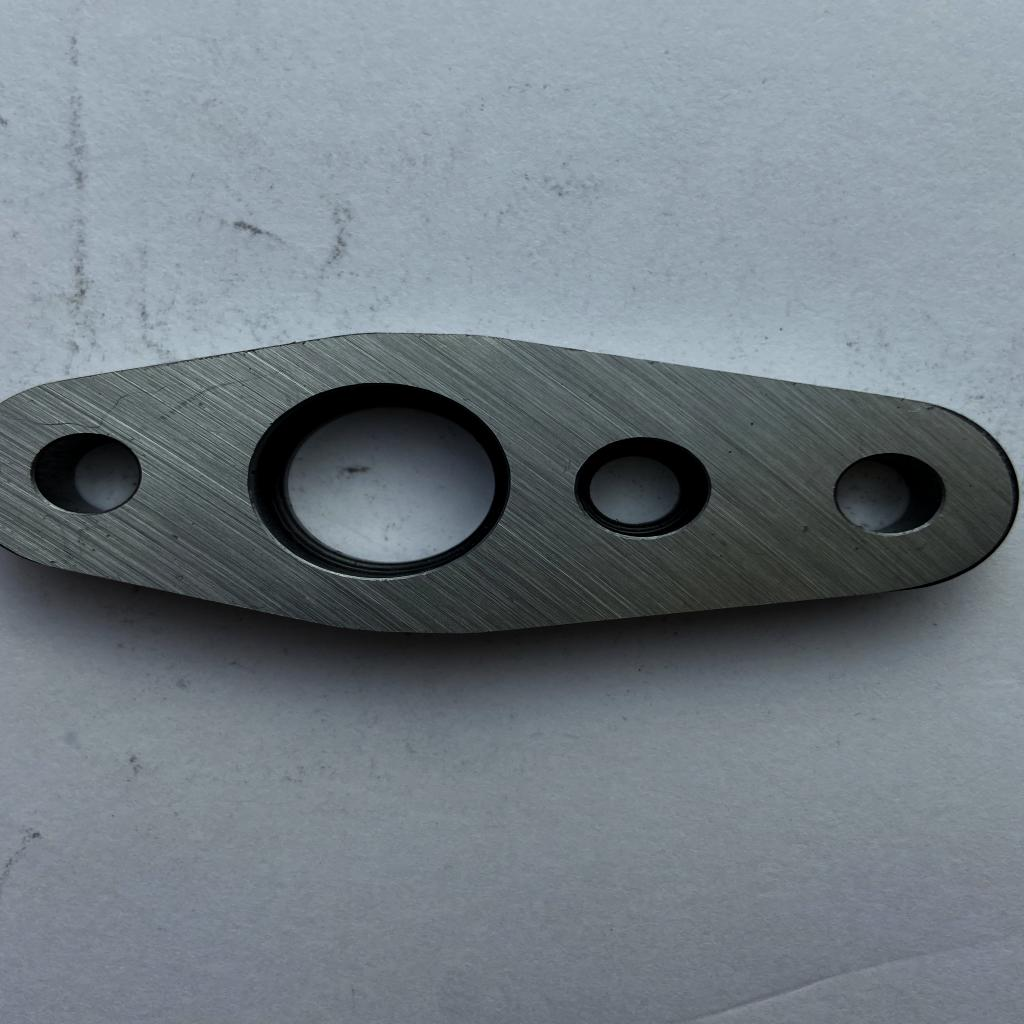chap: (798, 522, 812, 535), (924, 404, 935, 413)
lines: (160, 372, 264, 420), (30, 389, 140, 430)
